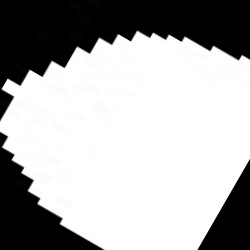spot: (0, 31, 248, 248)
